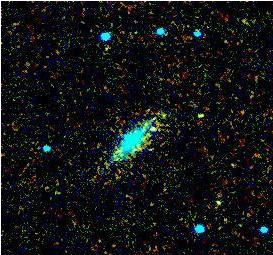star: (136, 112, 166, 142)
